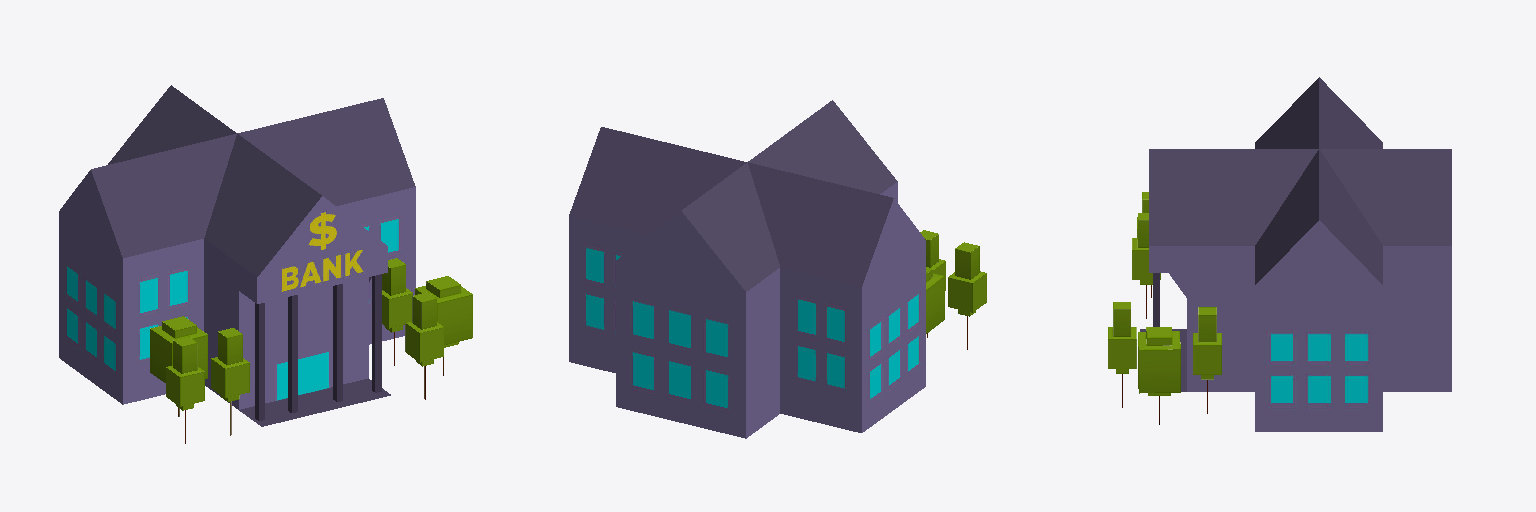
3 renders of one model, left to right at view 1: azimuth 30°, elevation 25°; view 2: azimuth 150°, elevation 25°; view 3: azimuth 270°, elevation 25°, orthographic.
Parts seen in each view (by area): view 1: service_bank_Cube.021, Tree_3_499_2.254_Mesh.9340, Tree_2_3_61.443_Mesh.9338, Tree_2_3_61.445_Mesh.9341, Tree_2_3_61.442_Mesh.9337, Tree_3_499_2.253_Mesh.9336, Tree_2_3_61.444_Mesh.9339; view 2: service_bank_Cube.021, Tree_2_3_61.442_Mesh.9337, Tree_3_499_2.253_Mesh.9336, Tree_2_3_61.443_Mesh.9338; view 3: service_bank_Cube.021, Tree_3_499_2.254_Mesh.9340, Tree_2_3_61.444_Mesh.9339, Tree_2_3_61.445_Mesh.9341, Tree_2_3_61.443_Mesh.9338.
Boxes of the visible parts, box(x1,y1,x2,y2) form: service_bank_Cube.021: box(59, 85, 415, 426); Tree_3_499_2.254_Mesh.9340: box(415, 276, 472, 375); Tree_2_3_61.443_Mesh.9338: box(211, 328, 249, 435); Tree_2_3_61.445_Mesh.9341: box(405, 292, 443, 399); Tree_2_3_61.442_Mesh.9337: box(166, 336, 204, 443); Tree_3_499_2.253_Mesh.9336: box(150, 316, 207, 416); Tree_2_3_61.444_Mesh.9339: box(382, 258, 412, 365); service_bank_Cube.021: box(569, 100, 925, 438); Tree_2_3_61.442_Mesh.9337: box(948, 242, 986, 349); Tree_3_499_2.253_Mesh.9336: box(926, 268, 944, 333); Tree_2_3_61.443_Mesh.9338: box(920, 230, 945, 337); service_bank_Cube.021: box(1140, 77, 1451, 431); Tree_3_499_2.254_Mesh.9340: box(1138, 327, 1180, 424); Tree_2_3_61.444_Mesh.9339: box(1193, 307, 1221, 413); Tree_2_3_61.445_Mesh.9341: box(1108, 302, 1136, 407); Tree_2_3_61.443_Mesh.9338: box(1132, 213, 1160, 318).
Size of the model in its own units: 1.89 by 1.32 by 1.9.
Materials: 3 (3 with a texture image).